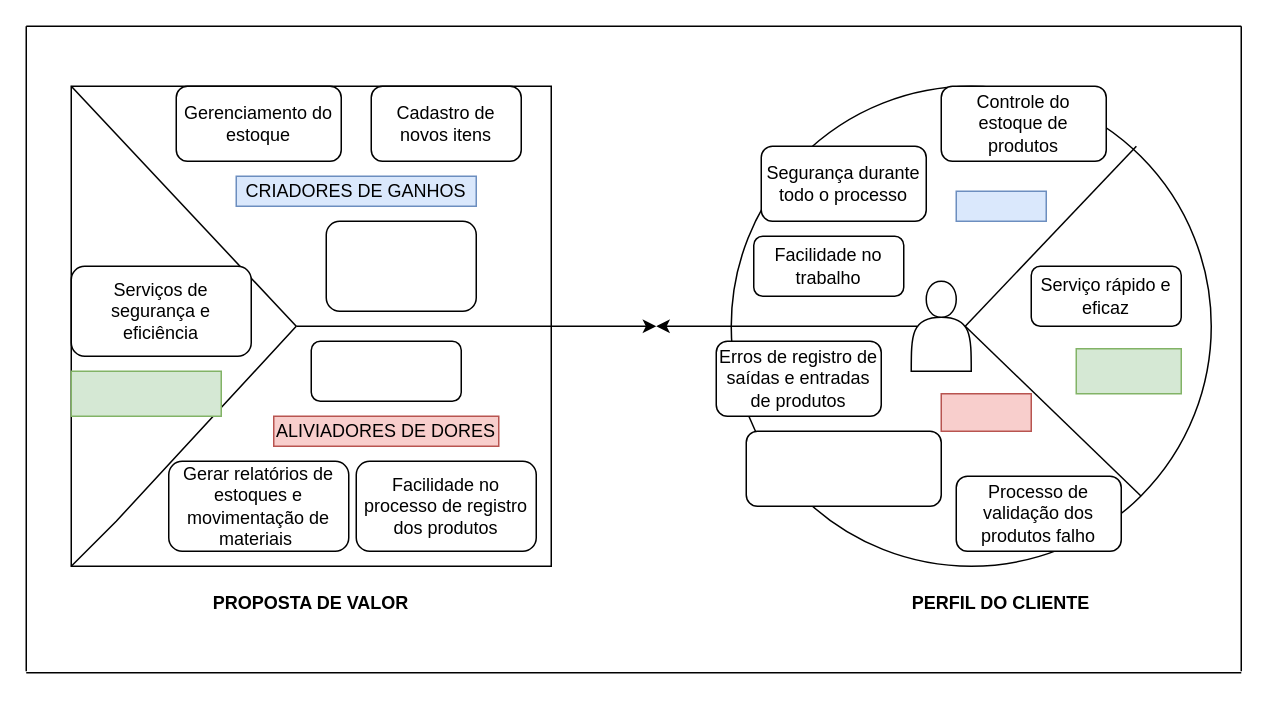
Image size: 1269x701. Some labels were removed from this diagram. Here are the shapes that lost their labels. From the top down, the box of each, then its label:
(955, 190, 1046, 221): GANHOS
(325, 220, 476, 311): Controle dos registros de saídas e entradas de produtos
(310, 340, 461, 401): Estoque sempre atualizado
(1075, 347, 1181, 394): TAREFAS DO CIENTE
(70, 370, 221, 416): PRODUTOS E SERVIÇOS
(940, 392, 1031, 431): DORES
(745, 430, 941, 506): Estoque de produtos desatualizado
